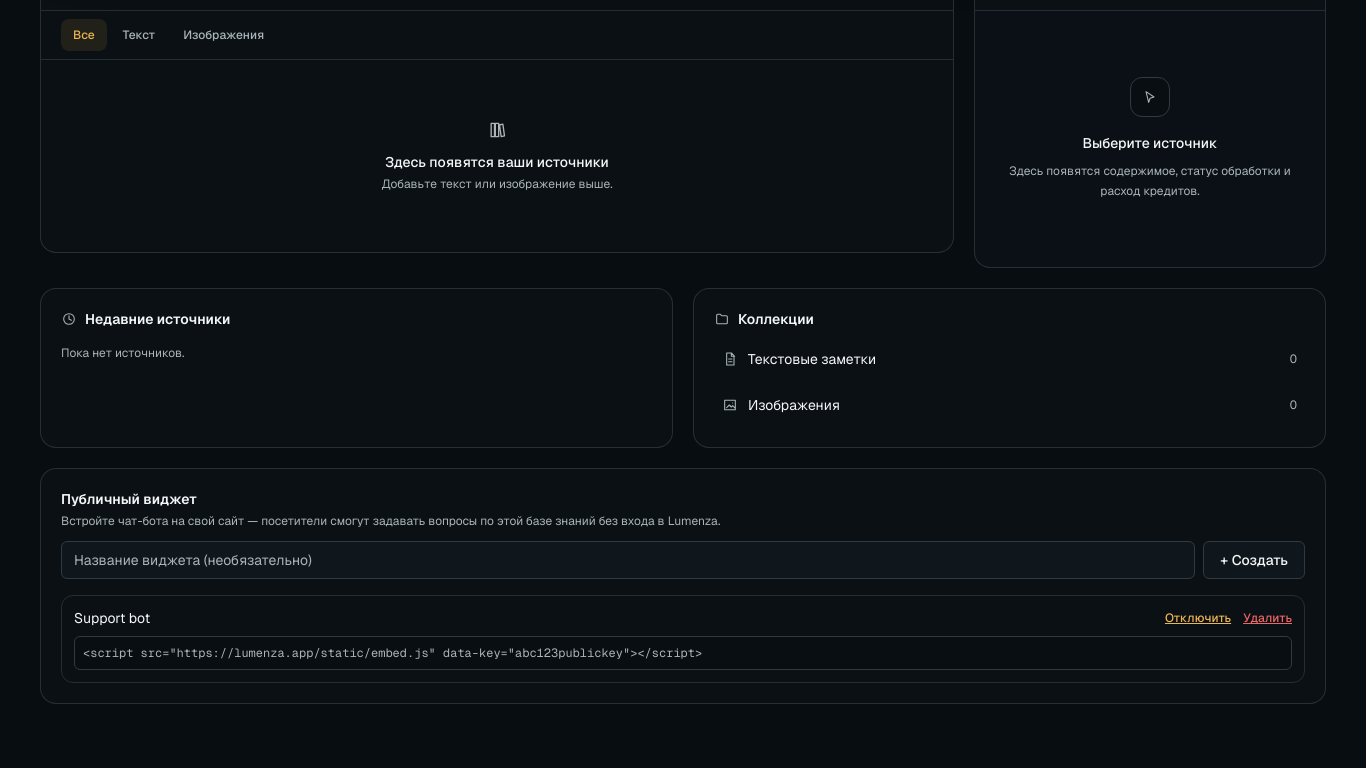
Scenario: KnowledgePage › toggles an embed widget's active state
The image size is (1366, 768).
(page scrolled)
Expected: the text "Support bot" is shown, left=74, top=608, right=150, bottom=628
Click the button "Отключить": (1198, 618) left=1165, top=610, right=1231, bottom=626
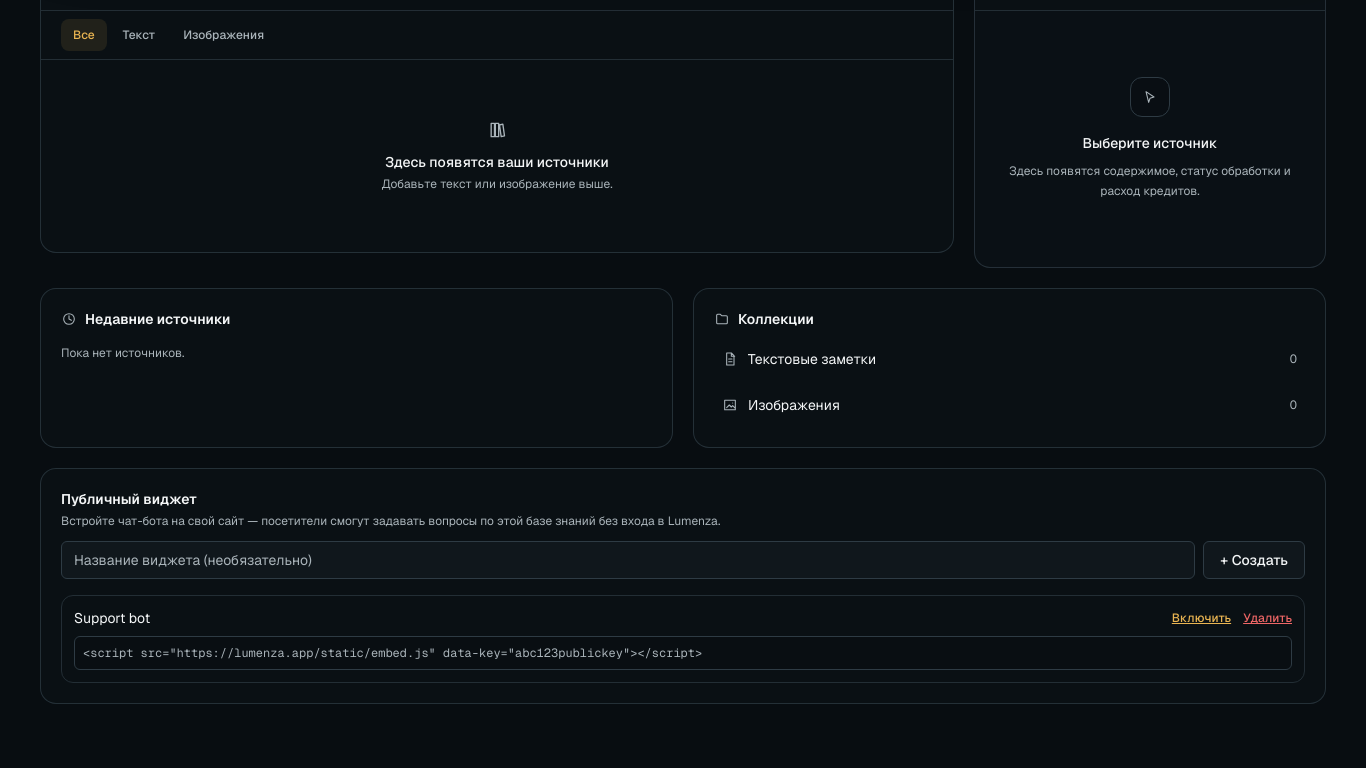
Result: the button "Включить" is shown at left=1172, top=610, right=1231, bottom=626
